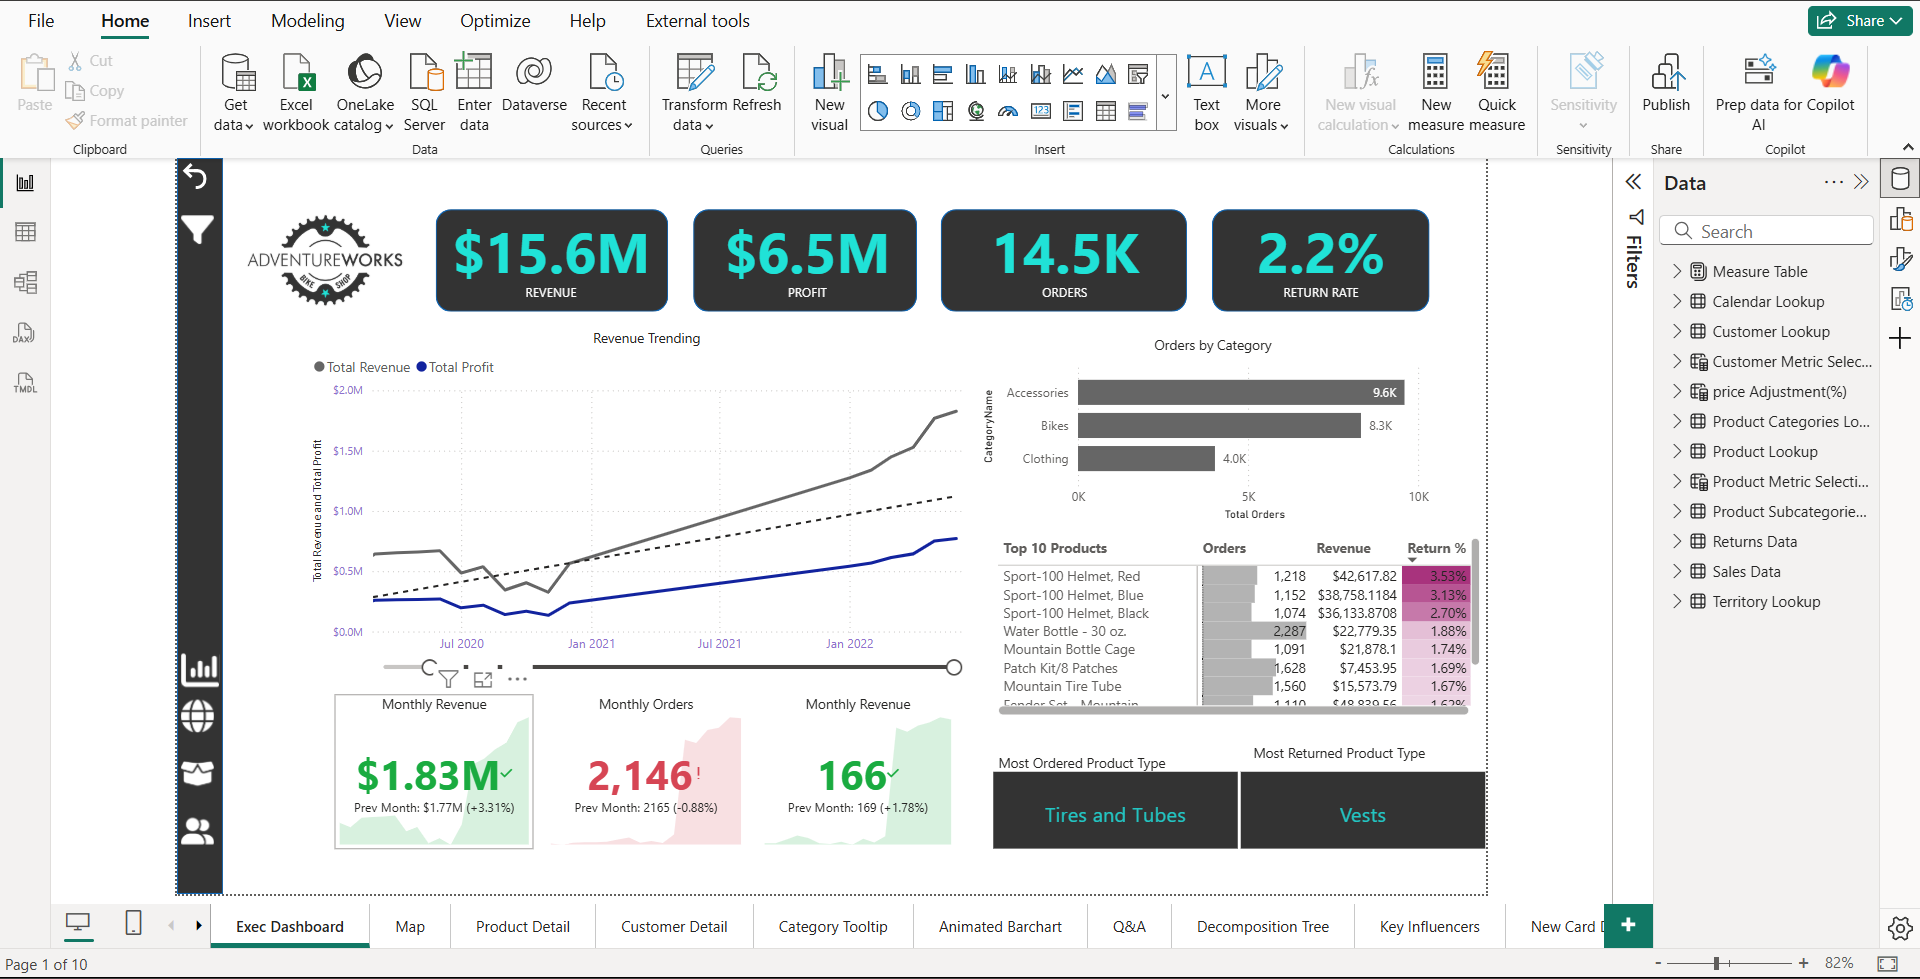

What the dashboard file says about the page in this screenshot:
{"tool":"powerbi","page":{"name":"Exec Dashboard","canvas":[1280,720],"ordinal":0},"visuals":[{"type":"image","title":"AW Logo","box":[47.7,28.1,195.6,144.2],"z":0},{"type":"shape","box":[253,50.1,227.4,100.2],"z":0,"group":"g2"},{"type":"shape","title":"Left  Nav Background","box":[0,0,45,720],"z":1000},{"type":"shape","box":[747.3,50.1,240.8,100.2],"z":1000,"group":"g2"},{"type":"actionButton","box":[0,525.6,45.2,40.3],"z":1000,"group":"g4"},{"type":"group","id":"g1","title":"KPIs","box":[253,22,971.8,150.4],"z":2000},{"type":"group","id":"g2","title":"KPI Backgrounds","box":[253,50.1,971.8,100.2],"z":2000,"group":"g1"},{"type":"shape","box":[1012.1,50.1,212.7,100.2],"z":2000,"group":"g2"},{"type":"actionButton","box":[0,581.8,45.2,40.3],"z":2000,"group":"g4"},{"type":"card","fields":{"Values":["Measure Table.Total Revenue"]},"box":[260.3,22,211.5,150.4],"z":3000,"group":"g3"},{"type":"shape","box":[504.4,50.1,218.8,100.2],"z":3000,"group":"g2"},{"type":"lineChart","title":" Revenue Trending","fields":{"Y":["Measure Table.Total Revenue"],"Category":["Calendar Lookup.Start of Month"]},"box":[128,166.5,662.1,342.9],"z":3000},{"type":"actionButton","box":[0,476.7,45.2,48.9],"z":3000,"group":"g4"},{"type":"card","fields":{"Values":["Measure Table.Total Orders"]},"box":[762.3,22,211.5,150.4],"z":4000,"group":"g3"},{"type":"kpi","title":"Monthly Revenue ","fields":{"Indicator":["Measure Table.Total Revenue"],"TrendLine":["Calendar Lookup.Date Hierarchy.Start of Month"],"Goal":["Measure Table.Previous Month Revenu"]},"box":[153.7,524.4,195.1,152.4],"z":4000},{"type":"actionButton","box":[0,638.1,45.2,40.3],"z":4000,"group":"g4"},{"type":"card","fields":{"Values":["Measure Table.Total Profit"]},"box":[511.3,22,211.5,150.4],"z":5000,"group":"g3"},{"type":"kpi","title":"Monthly Orders","fields":{"TrendLine":["Calendar Lookup.Date Hierarchy.Start of Month"],"Goal":["Measure Table.Previous Month Orders"],"Indicator":["Measure Table.Total Orders"]},"box":[361,524.4,196.3,152.4],"z":5000},{"type":"card","fields":{"Values":["Measure Table.Return Rate"]},"box":[1013.3,22,211.5,150.4],"z":6000,"group":"g3"},{"type":"kpi","title":"Monthly Revenue ","fields":{"TrendLine":["Calendar Lookup.Date Hierarchy.Start of Month"],"Goal":["Measure Table.Previous Month Returns"],"Indicator":["Measure Table.Total Returns"]},"box":[569.5,524.4,192.7,152.4],"z":6000},{"type":"group","id":"g3","title":"KPI Values","box":[260.3,22,964.5,150.4],"z":6001,"group":"g1"},{"type":"barChart","title":" Orders by Category","fields":{"Category":["Product Categories Lookup.CategoryName"],"Y":["Measure Table.Total Orders"]},"box":[784,174,459,186],"z":7000},{"type":"pivotTable","fields":{"Rows":["Product Lookup.ProductName"],"Values":["Measure Table.Total Orders","Measure Table.Total Revenue","Measure Table.Return Rate"]},"box":[799,367,481,183],"z":8000},{"type":"cardVisual","fields":{"Data":["Min(Product Subcategories Lookup.SubcategoryName)"]},"box":[799,601,239,75],"z":9000},{"type":"textbox","box":[799,577,239,34],"z":10000},{"type":"cardVisual","fields":{"Data":["Min(Product Subcategories Lookup.SubcategoryName)"]},"box":[1041,601,239,75],"z":11000},{"type":"textbox","box":[1041,568,231,33],"z":12000},{"type":"actionButton","box":[0,0,45,35],"z":13000},{"type":"group","id":"g4","title":"Navigation Buttons","box":[0,476.7,45.2,201.7],"z":14000},{"type":"actionButton","box":[0,50,48,40],"z":15000}]}

Visuals, with their boxes on the page's 1280x720 design canvas (x1, y1, x2, y2). These are canvas units, not pixel positions in the 1920x979 screenshot, which may show the page scaled, cropped or inside an application window:
"AW Logo" image: {"x1": 48, "y1": 28, "x2": 243, "y2": 172}
shape: {"x1": 253, "y1": 50, "x2": 480, "y2": 150}
"Left  Nav Background" shape: {"x1": 0, "y1": 0, "x2": 45, "y2": 720}
shape: {"x1": 747, "y1": 50, "x2": 988, "y2": 150}
actionButton: {"x1": 0, "y1": 526, "x2": 45, "y2": 566}
"KPIs" group: {"x1": 253, "y1": 22, "x2": 1225, "y2": 172}
"KPI Backgrounds" group: {"x1": 253, "y1": 50, "x2": 1225, "y2": 150}
shape: {"x1": 1012, "y1": 50, "x2": 1225, "y2": 150}
actionButton: {"x1": 0, "y1": 582, "x2": 45, "y2": 622}
card - Measure Table.Total Revenue: {"x1": 260, "y1": 22, "x2": 472, "y2": 172}
shape: {"x1": 504, "y1": 50, "x2": 723, "y2": 150}
" Revenue Trending" lineChart: {"x1": 128, "y1": 166, "x2": 790, "y2": 509}
actionButton: {"x1": 0, "y1": 477, "x2": 45, "y2": 526}
card - Measure Table.Total Orders: {"x1": 762, "y1": 22, "x2": 974, "y2": 172}
"Monthly Revenue " kpi: {"x1": 154, "y1": 524, "x2": 349, "y2": 677}
actionButton: {"x1": 0, "y1": 638, "x2": 45, "y2": 678}
card - Measure Table.Total Profit: {"x1": 511, "y1": 22, "x2": 723, "y2": 172}
"Monthly Orders" kpi: {"x1": 361, "y1": 524, "x2": 557, "y2": 677}
card - Measure Table.Return Rate: {"x1": 1013, "y1": 22, "x2": 1225, "y2": 172}
"Monthly Revenue " kpi: {"x1": 570, "y1": 524, "x2": 762, "y2": 677}
"KPI Values" group: {"x1": 260, "y1": 22, "x2": 1225, "y2": 172}
" Orders by Category" barChart: {"x1": 784, "y1": 174, "x2": 1243, "y2": 360}
pivotTable - Product Lookup.ProductName x Measure Table.Total Orders: {"x1": 799, "y1": 367, "x2": 1280, "y2": 550}
cardVisual - Min(Product Subcategories Lookup.SubcategoryName): {"x1": 799, "y1": 601, "x2": 1038, "y2": 676}
textbox: {"x1": 799, "y1": 577, "x2": 1038, "y2": 611}
cardVisual - Min(Product Subcategories Lookup.SubcategoryName): {"x1": 1041, "y1": 601, "x2": 1280, "y2": 676}
textbox: {"x1": 1041, "y1": 568, "x2": 1272, "y2": 601}
actionButton: {"x1": 0, "y1": 0, "x2": 45, "y2": 35}
"Navigation Buttons" group: {"x1": 0, "y1": 477, "x2": 45, "y2": 678}
actionButton: {"x1": 0, "y1": 50, "x2": 48, "y2": 90}
